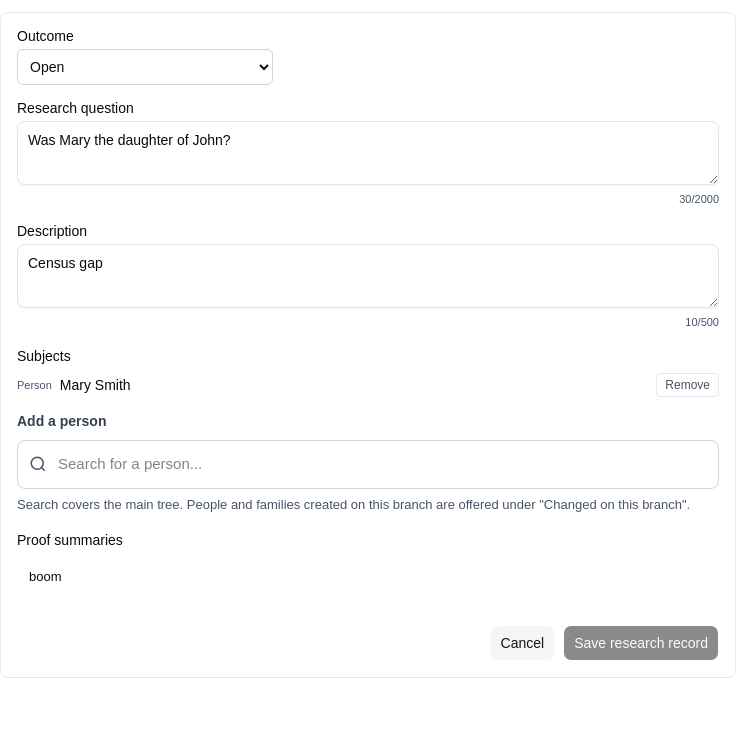
Test: BranchResearchEditor › reports an archived-branch refusal and a proof-summary load failure
This screenshot has width=753, height=746.
Check: the text "boom" is shown, box [29,569,62,584]
Select "Proved" in the dropdown labelled "Outcome" at {"x": 145, "y": 67}, box [17,49,273,85]
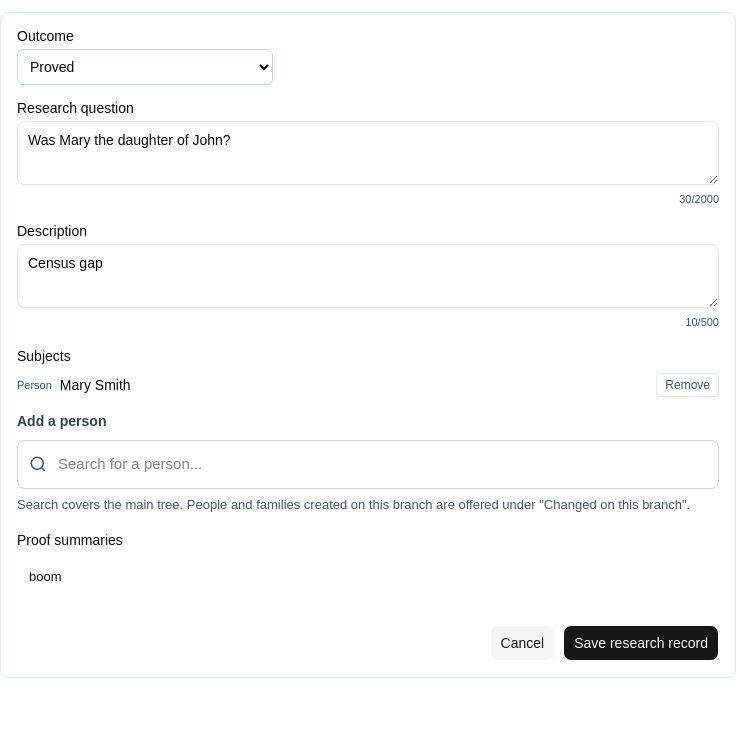
Click the button "Save research record" at {"x": 641, "y": 642}, box [563,624,719,660]
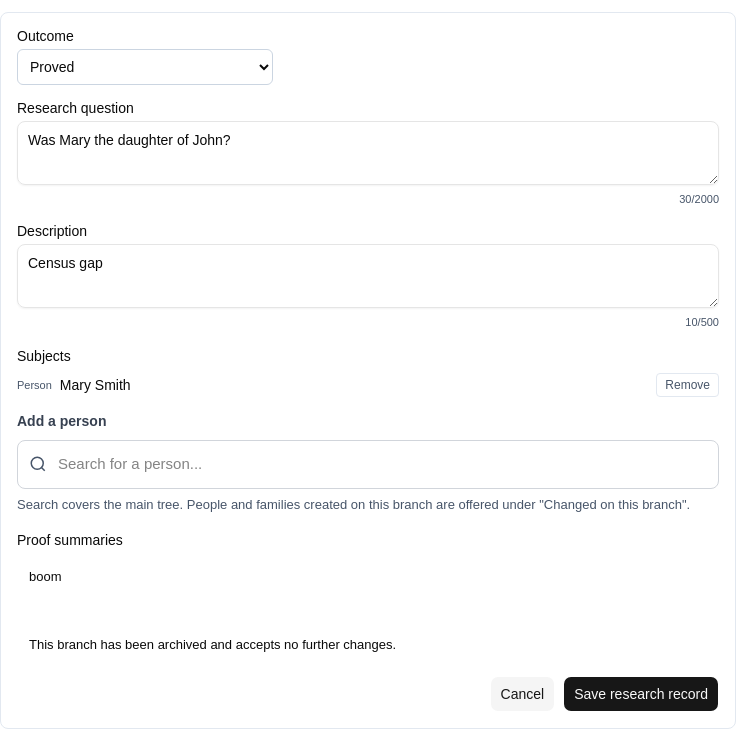
Check: the text "This branch has been archived and accepts no further changes." is shown, box [29,636,396,652]
